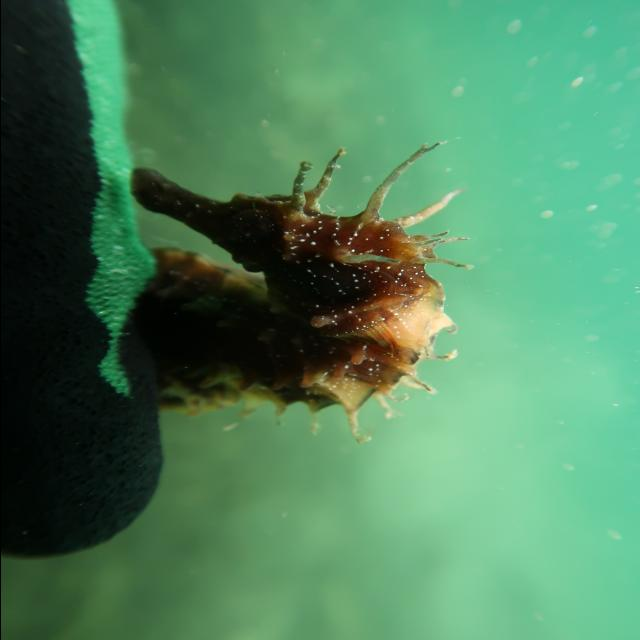Guttu: (122, 164, 430, 324)
